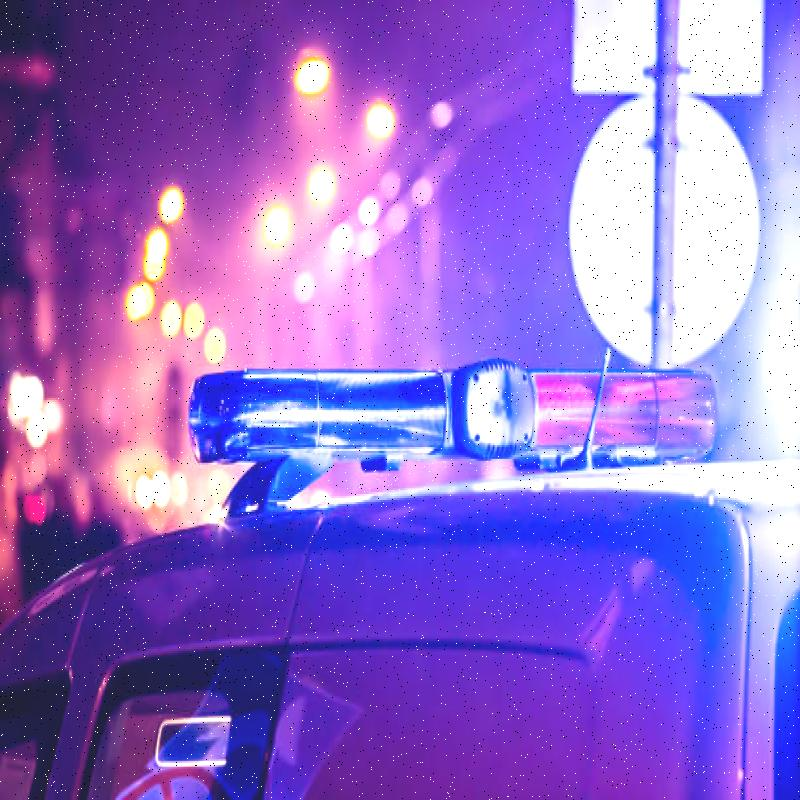AmbulanceSiren: (180, 356, 739, 466)
